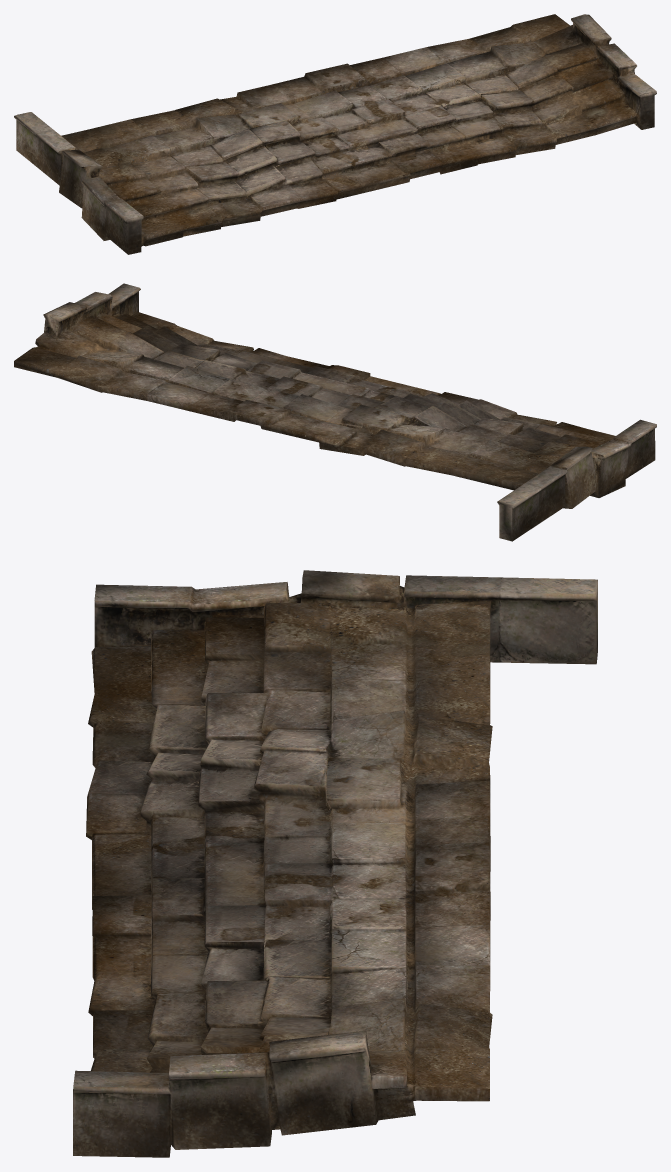
The model's file is P_CemeteryStairs02.fbx.
3 renders of one model, top to bottom at view 1: azimuth 30°, elevation 25°; view 2: azimuth 150°, elevation 25°; view 3: azimuth 270°, elevation 25°, orthographic. The views are drawn at different scales.
Parts seen in each view (by area): view 1: P_CemeteryStairs02; view 2: P_CemeteryStairs02; view 3: P_CemeteryStairs02.
Boxes of the visible parts, bbox=[...] form: P_CemeteryStairs02: bbox=[14, 14, 656, 254]; P_CemeteryStairs02: bbox=[14, 283, 656, 541]; P_CemeteryStairs02: bbox=[73, 570, 597, 1157].
Size of the model in its own units: 823 by 104 by 352.
